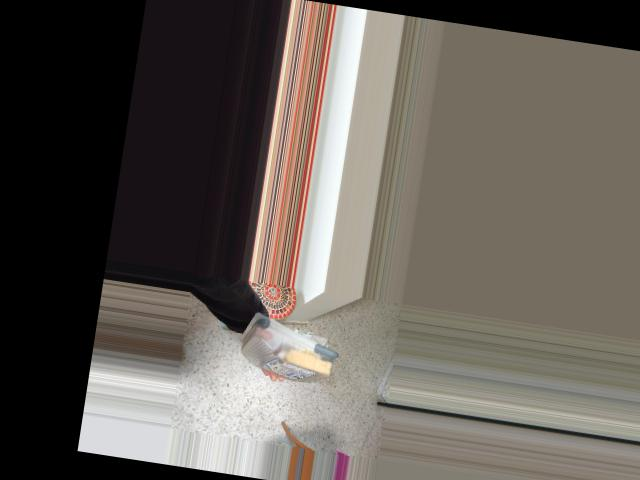cheese: (237, 303, 347, 387)
